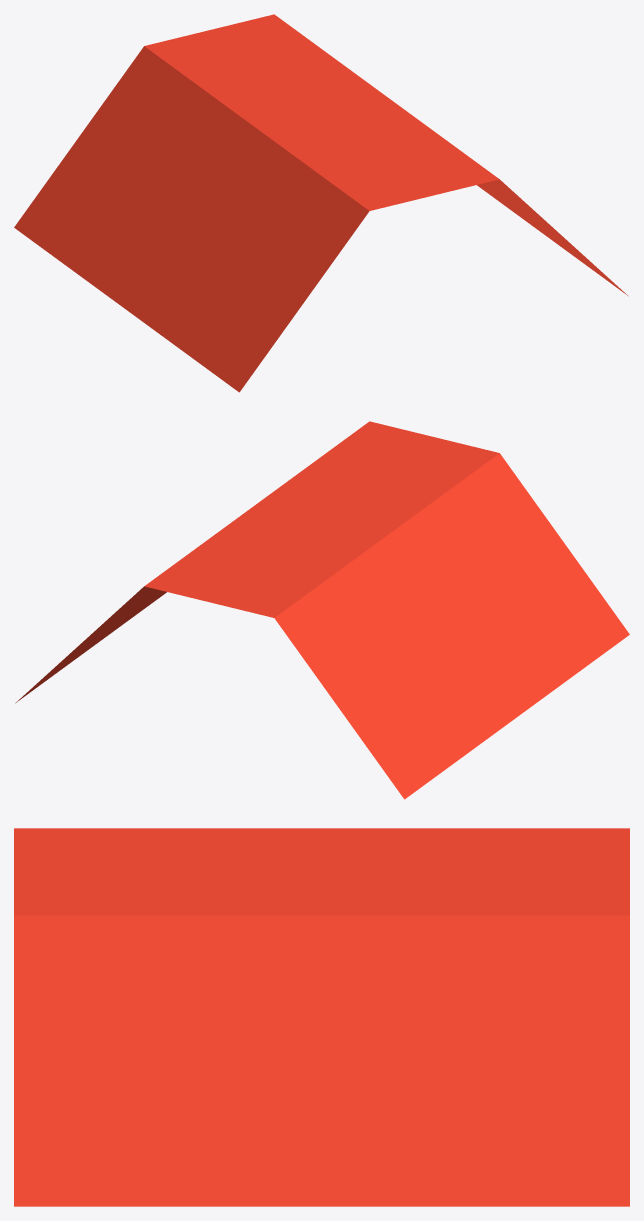
The model's file is roof.fbx.
3 views of the same model, one above another, from view 1: azimuth 30°, elevation 25°; view 2: azimuth 150°, elevation 25°; view 3: azimuth 270°, elevation 25° (orthographic). The views are drawn at different scales.
Visible parts, largest first — view 1: Roof; view 2: Roof; view 3: Roof.
Part boxes in pixels (x1,y1,x2,y2): Roof: [14, 14, 628, 392]; Roof: [15, 421, 629, 799]; Roof: [14, 828, 629, 1206].
Bounding box in the file's own units: 200 × 73.29 × 200.
